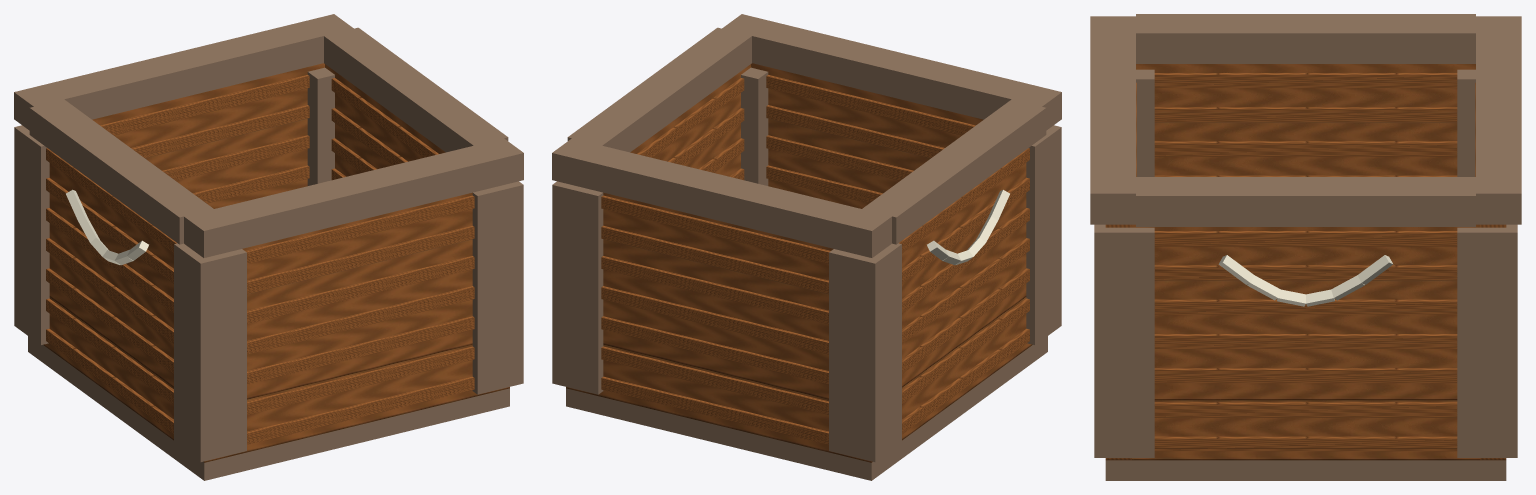
File: hot-air-balloon-festival-balloon-basket-two-person-69246438__38474.glb
3 renders of one model, left to right at view 1: azimuth 30°, elevation 25°; view 2: azimuth 150°, elevation 25°; view 3: azimuth 270°, elevation 25°, orthographic. The views are drawn at different scales.
Parts seen in each view (by area): view 1: balloon-basket-two-person-wicker, balloon-basket-two-person-leather, balloon-basket-two-person-rope; view 2: balloon-basket-two-person-wicker, balloon-basket-two-person-leather, balloon-basket-two-person-rope; view 3: balloon-basket-two-person-wicker, balloon-basket-two-person-leather, balloon-basket-two-person-rope.
Boxes of the visible parts, <box> form: balloon-basket-two-person-wicker: <box>43,63,509,462</box>; balloon-basket-two-person-leather: <box>14,14,523,480</box>; balloon-basket-two-person-rope: <box>66,189,148,265</box>; balloon-basket-two-person-wicker: <box>566,63,1032,462</box>; balloon-basket-two-person-leather: <box>552,14,1061,480</box>; balloon-basket-two-person-rope: <box>927,189,1009,265</box>; balloon-basket-two-person-wicker: <box>1105,64,1506,460</box>; balloon-basket-two-person-leather: <box>1090,14,1521,480</box>; balloon-basket-two-person-rope: <box>1218,255,1393,306</box>.
Size of the model in its own units: 1.16 by 0.8499 by 1.14.
3 materials, 1 textured.
